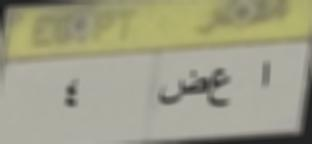4: (59, 77, 89, 112)
ain: (207, 65, 236, 107)
alif: (252, 58, 276, 92)
daad: (160, 69, 205, 110)
